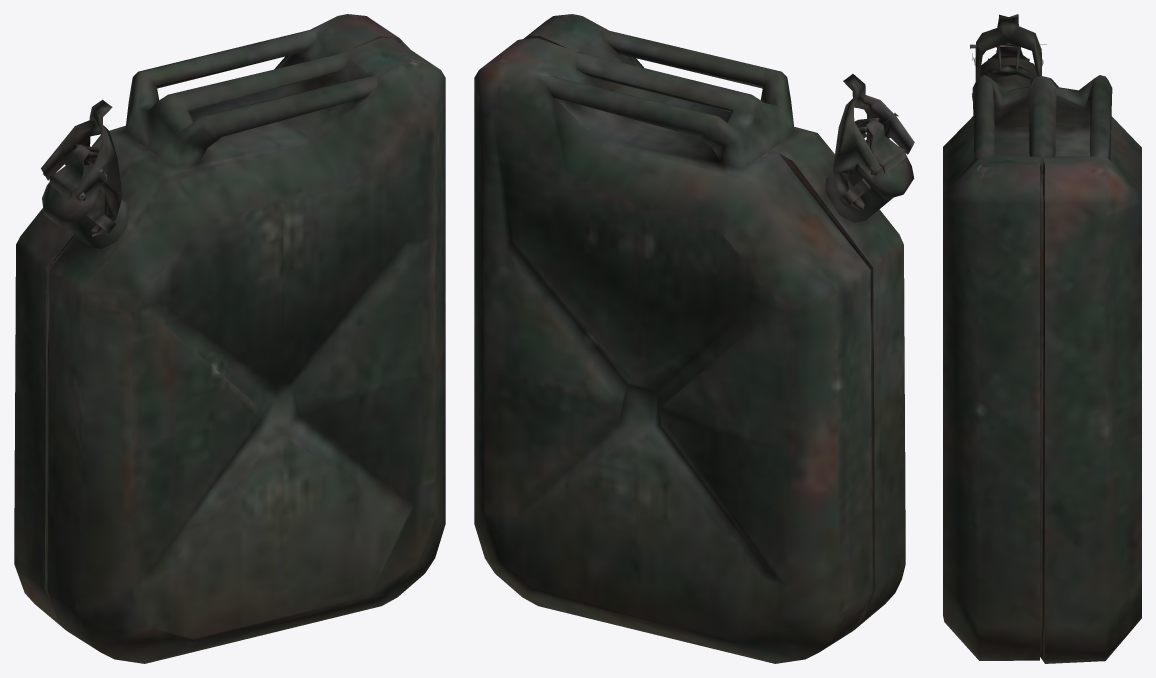
File: metal_jerrycan_green.glb
3 views of the same model, side by side, from view 1: azimuth 30°, elevation 25°; view 2: azimuth 150°, elevation 25°; view 3: azimuth 270°, elevation 25° (orthographic). The views are drawn at different scales.
Parts seen in each view (by area): view 1: metal_jerrycan_green_pin; view 2: metal_jerrycan_green_pin; view 3: metal_jerrycan_green_pin.
Boxes of the visible parts, bbox=[...] form: metal_jerrycan_green_pin: bbox=[14, 14, 445, 663]; metal_jerrycan_green_pin: bbox=[474, 14, 914, 663]; metal_jerrycan_green_pin: bbox=[943, 14, 1141, 663].
Bounding box in the file's own units: 0.36 × 0.4982 × 0.1709.
1 material, 1 textured.
